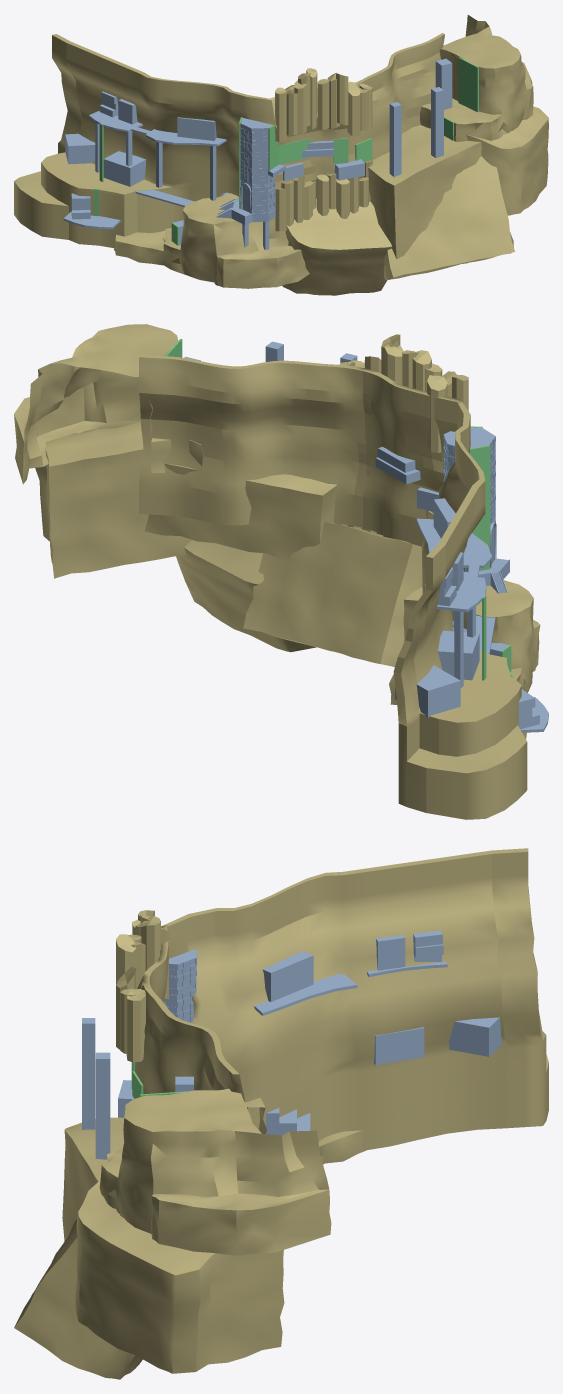
Rendered from level design test.fbx.
3 renders of one model, top to bottom at view 1: azimuth 30°, elevation 25°; view 2: azimuth 150°, elevation 25°; view 3: azimuth 270°, elevation 25°, orthographic. The views are drawn at different scales.
Visible parts, largest first — view 1: Cube.001, Plane, Plane.005, Plane.001, Plane.002, Plane.004, Plane.003, Cylinder, Cube.086, Cube.032, Cylinder.007, Cube.033 (+30 smaller); view 2: Cube.001, Plane.004, Plane.003, Plane.002, Plane.001, Plane.005, Plane, Cube.065, Cube.077, Cylinder.007, Cube.058, Cube.057 (+5 smaller); view 3: Cube.001, Plane.002, Plane.003, Plane.005, Plane.001, Cube.033, Cube.032, Plane, Cube.065, Cube.031, Cylinder.007, Cube.069 (+4 smaller).
Boxes of the visible parts, left/top/right/bottom form: Cube.001: left=14, top=33, right=444, bottom=247; Plane: left=114, top=193, right=309, bottom=288; Plane.005: left=383, top=156, right=514, bottom=280; Plane.001: left=368, top=125, right=481, bottom=258; Plane.002: left=419, top=15, right=533, bottom=141; Plane.004: left=282, top=198, right=392, bottom=295; Plane.003: left=466, top=106, right=548, bottom=215; Cylinder: left=240, top=148, right=275, bottom=213; Cube.086: left=458, top=57, right=478, bottom=112; Cube.032: left=389, top=102, right=401, bottom=177; Cylinder.007: left=240, top=118, right=272, bottom=152; Cube.033: left=431, top=87, right=443, bottom=157; Cube.001: left=139, top=355, right=527, bottom=819; Plane.004: left=243, top=521, right=422, bottom=667; Plane.003: left=35, top=420, right=191, bottom=578; Plane.002: left=14, top=324, right=203, bottom=484; Plane.001: left=144, top=463, right=337, bottom=559; Plane.005: left=176, top=540, right=315, bottom=652; Plane: left=389, top=580, right=540, bottom=738; Cube.065: left=416, top=518, right=491, bottom=568; Cube.077: left=467, top=445, right=490, bottom=572; Cylinder.007: left=443, top=427, right=495, bottom=478; Cube.058: left=436, top=575, right=486, bottom=612; Cube.057: left=416, top=665, right=460, bottom=699; Cube.001: left=135, top=848, right=548, bottom=1150; Plane.002: left=99, top=1088, right=331, bottom=1255; Plane.003: left=75, top=1180, right=284, bottom=1373; Plane.005: left=14, top=1219, right=142, bottom=1379; Plane.001: left=62, top=1117, right=124, bottom=1241; Cube.033: left=95, top=1052, right=110, bottom=1159; Cube.032: left=82, top=1018, right=95, bottom=1129; Plane: left=245, top=1098, right=366, bottom=1164; Cube.065: left=254, top=974, right=357, bottom=1015; Cube.031: left=126, top=988, right=145, bottom=1062; Cylinder.007: left=164, top=949, right=196, bottom=1001; Cube.069: left=262, top=951, right=313, bottom=982.
Size of the model in its own units: 21049 by 10917 by 14973.
